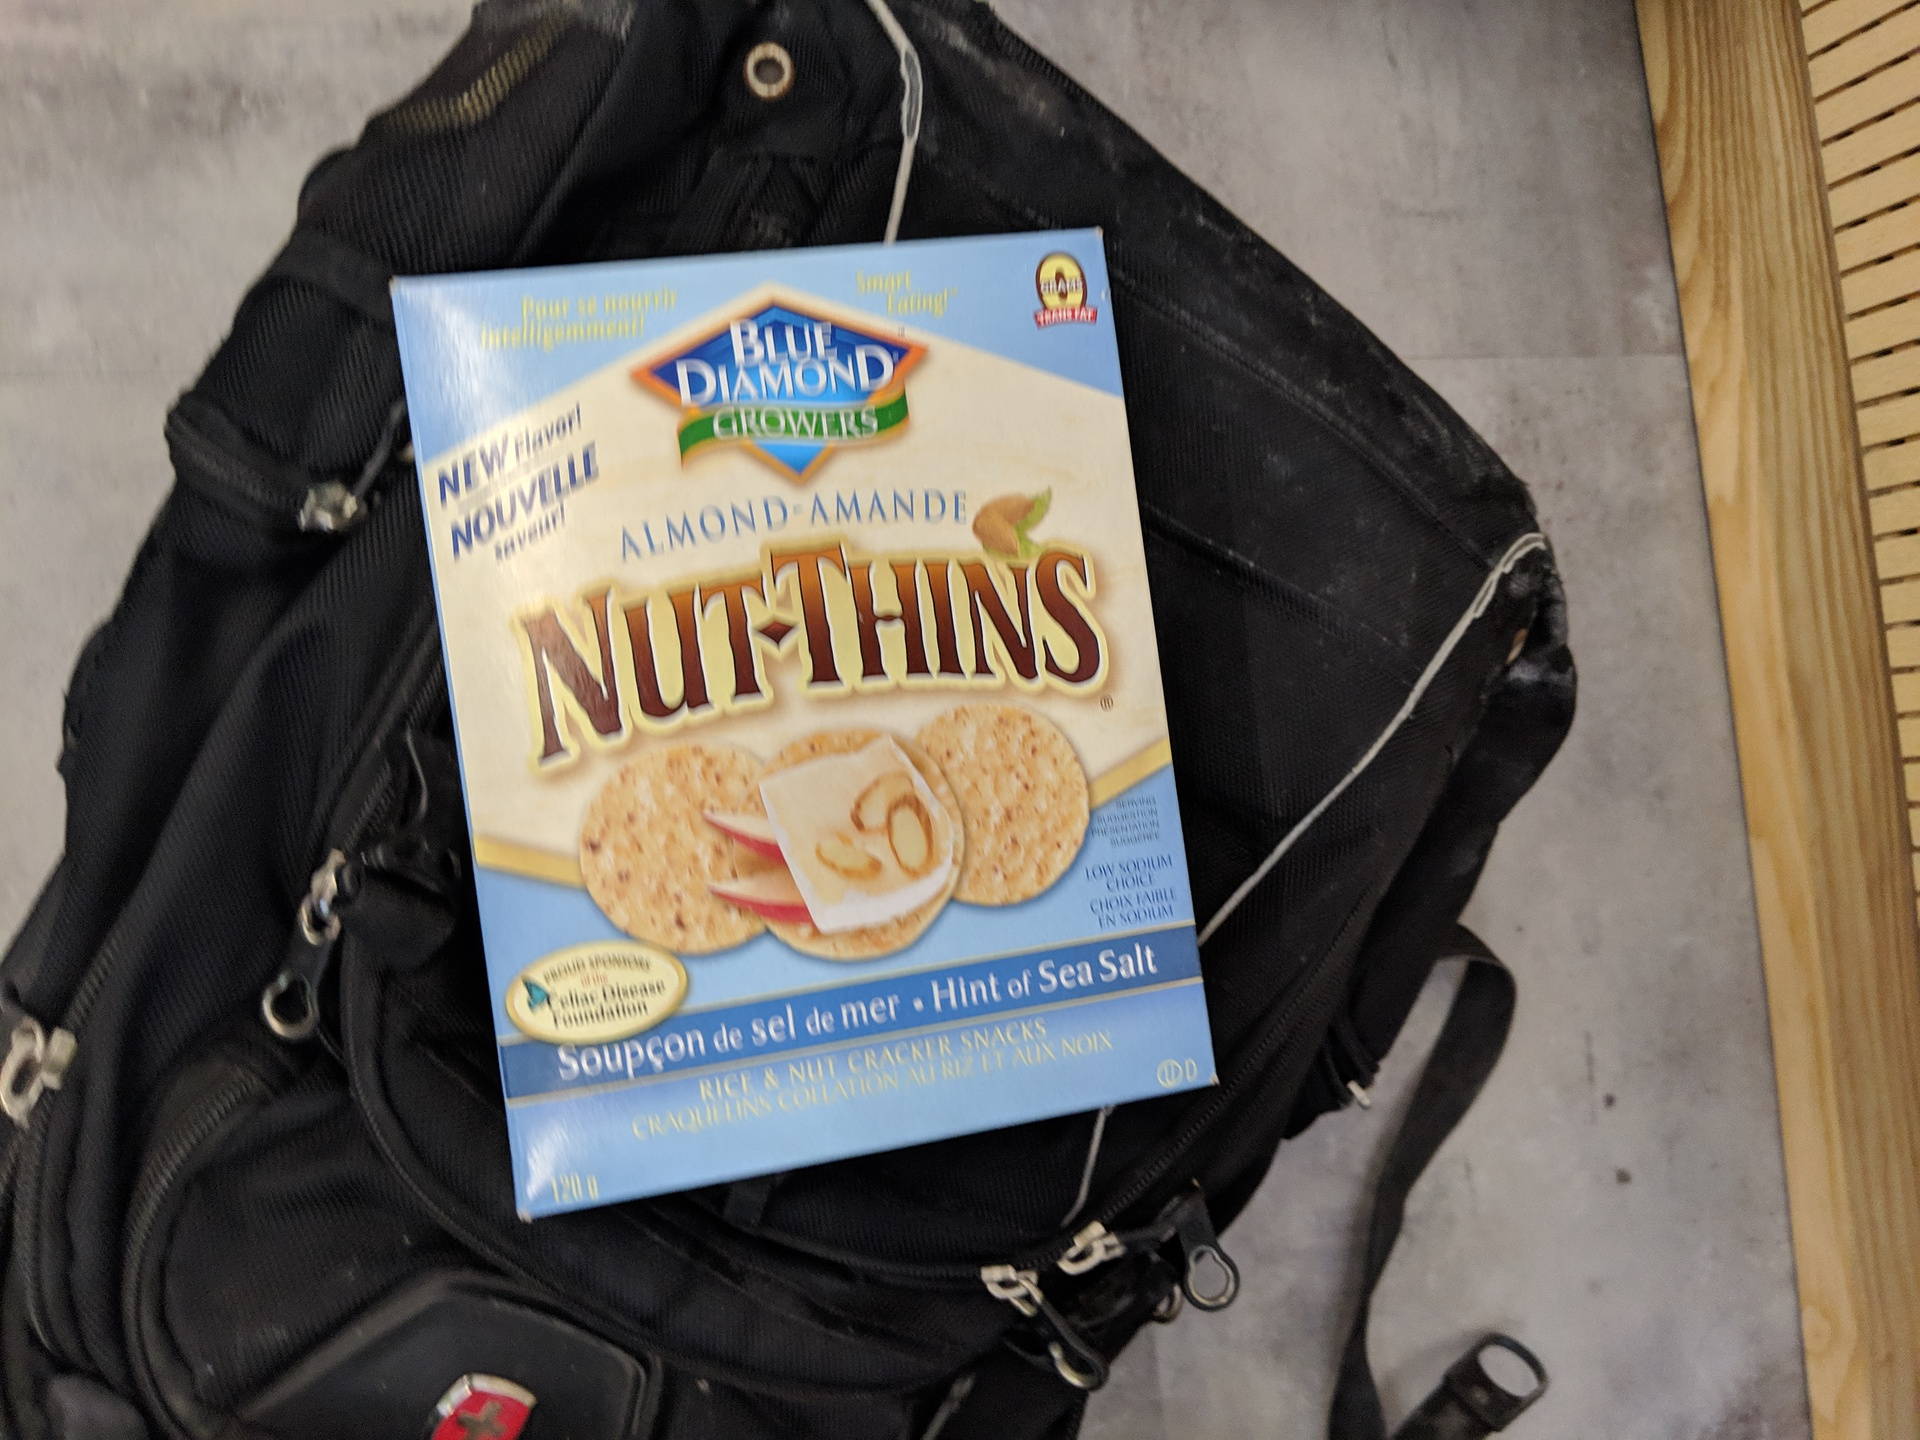blue_diamond_nut_thins_almond_seasalt: (522, 274, 1116, 1098)
